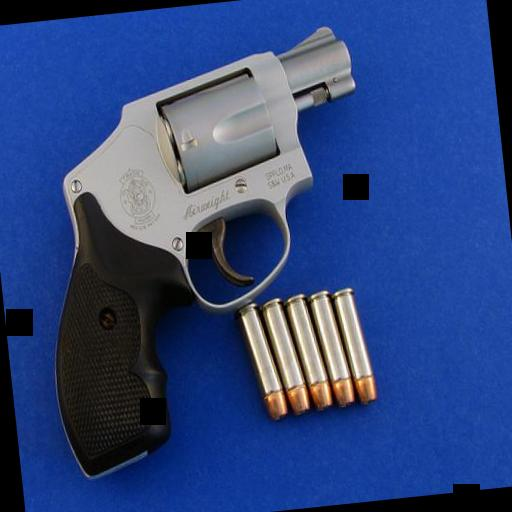Handgun: (20, 20, 390, 480)
